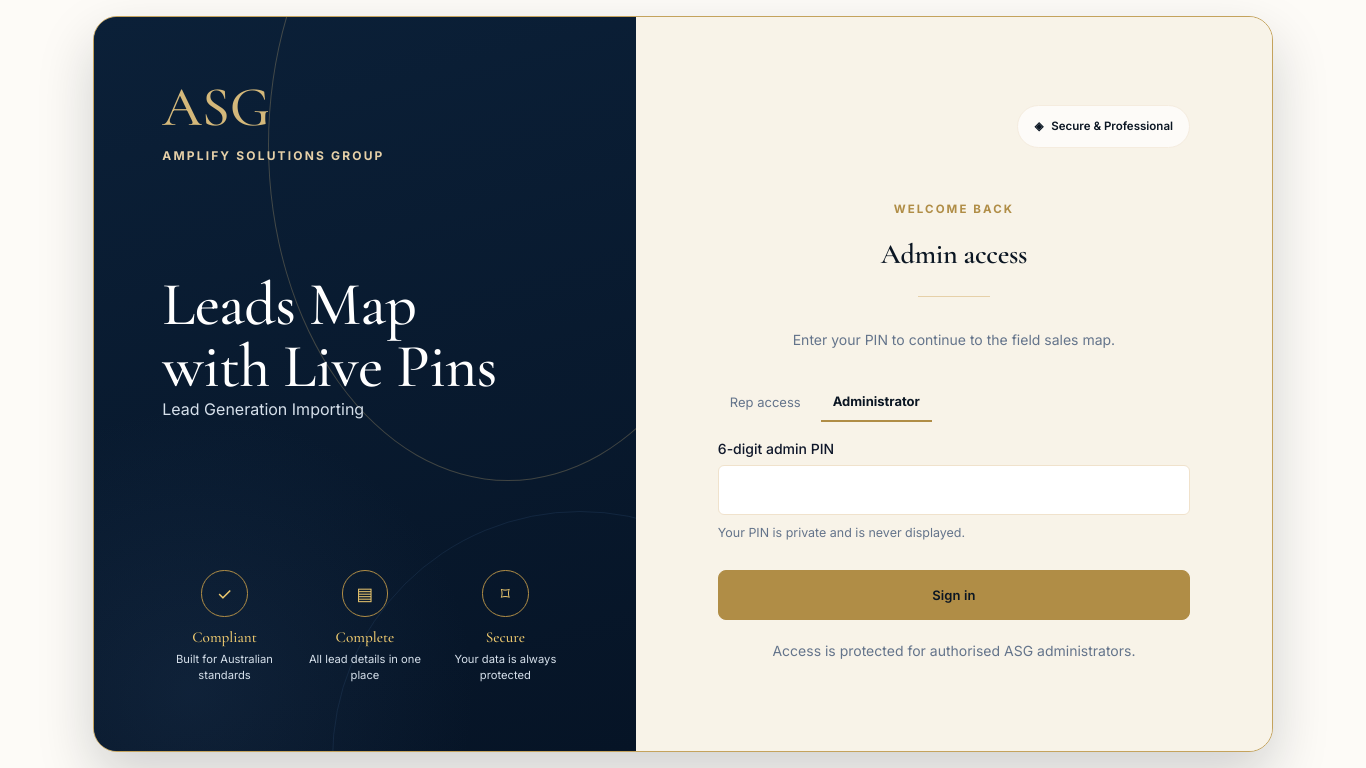
Test: LoginPage › shows an error for an invalid administrator PIN
Type "111111" into the password field labelled "6-digit admin PIN".
click(954, 490); type("111111")  # box [718,464,1190,514]
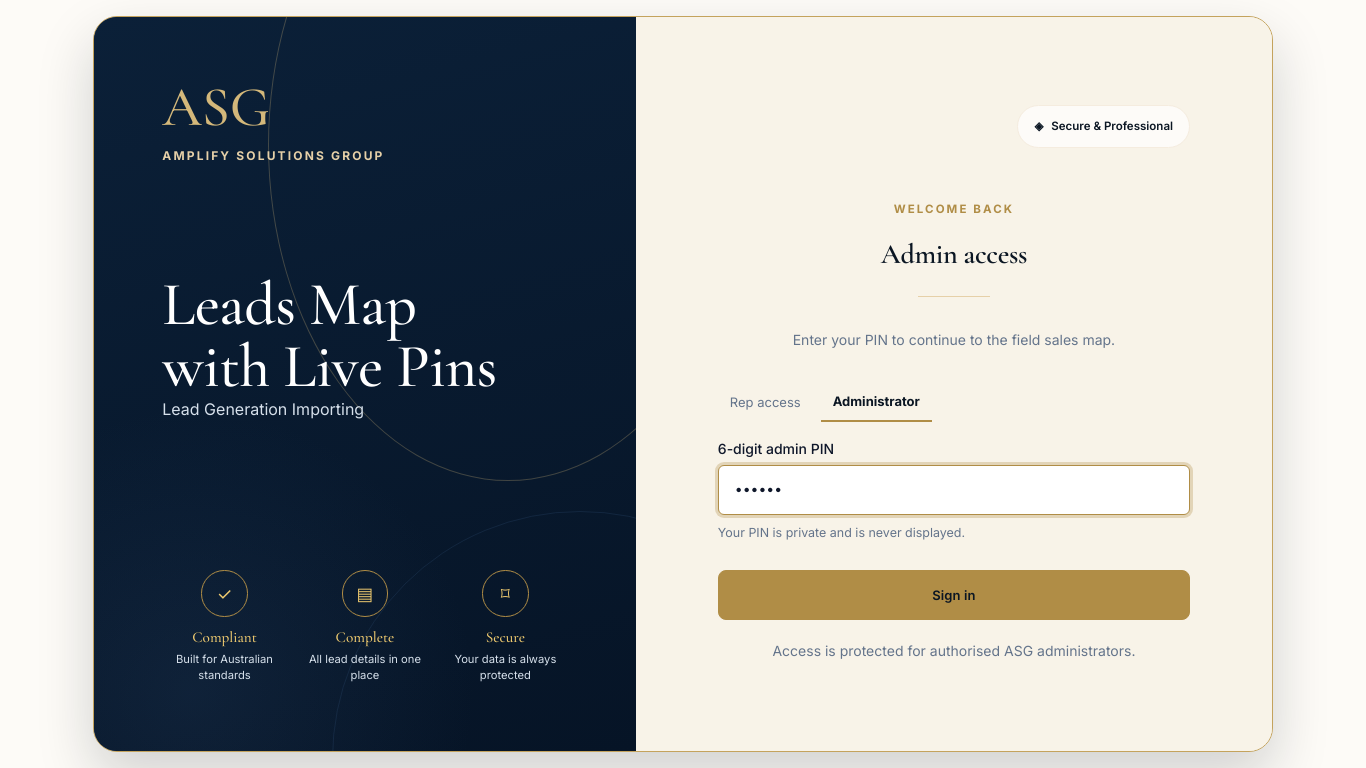
Click the button "Sign in".
click(954, 596)  # box [718,570,1190,620]
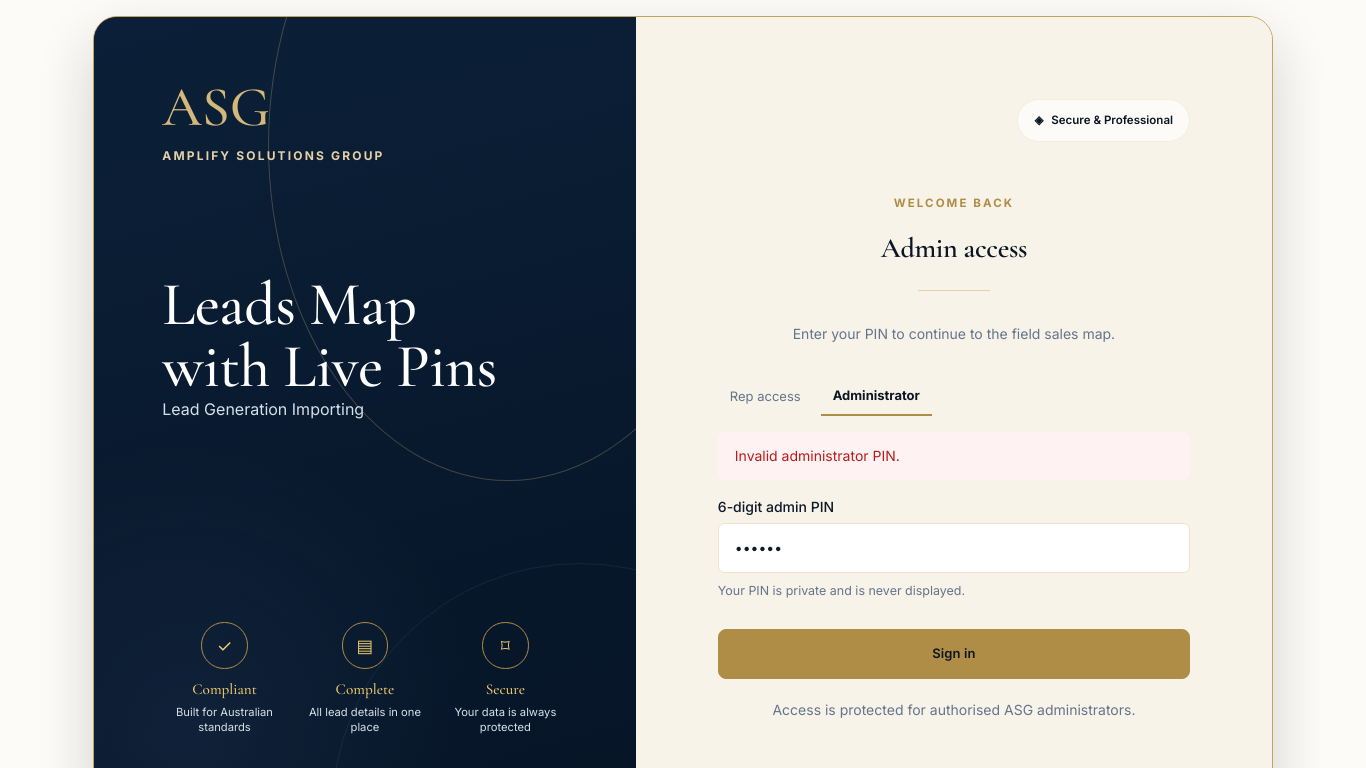
Now the message reads "Invalid administrator PIN.", box [735,447,900,464]
